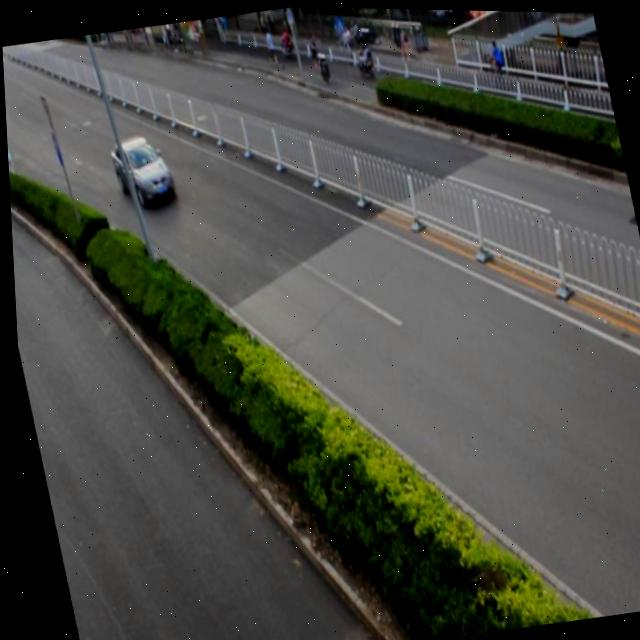car: (106, 131, 176, 212)
